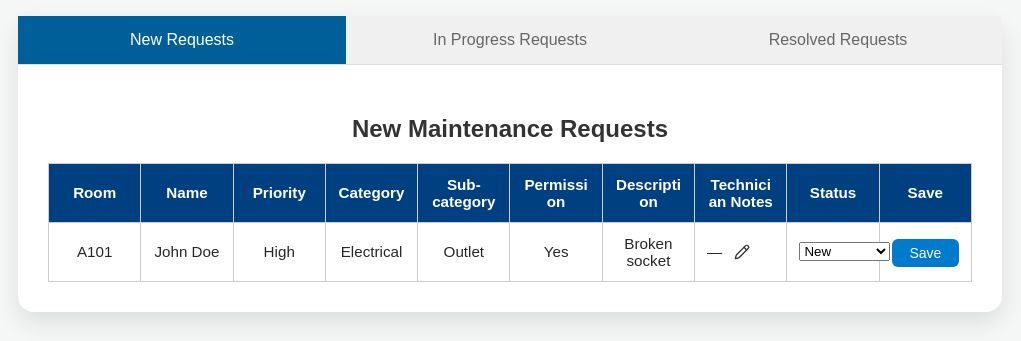
Test: AdminMaintenancePanel › filters requests by status
The image size is (1021, 341).
Expected: the text "John Doe" is shown, x1=141 y1=222 x2=233 y2=281
Click the button "Resolved Requests". click: [838, 40]
box: x1=674 y1=16 x2=1002 y2=64
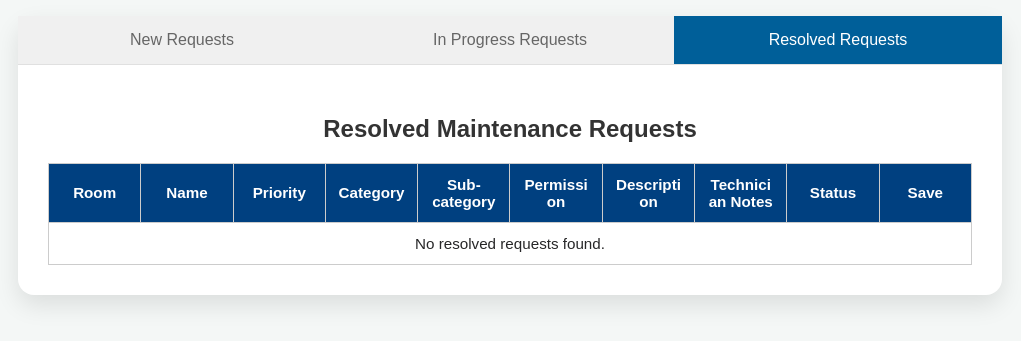
Expected: the text "No resolved requests found." is shown, x1=48 y1=222 x2=972 y2=264
